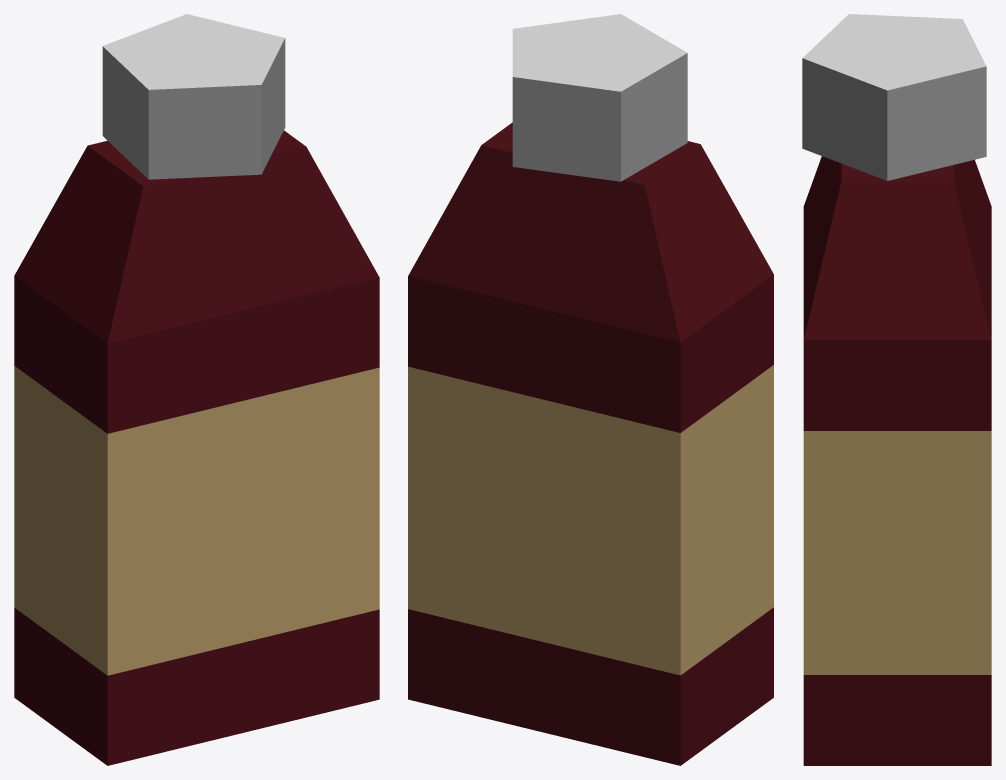
File: TB_Prop_Bottle_F.FBX
3 renders of one model, left to right at view 1: azimuth 30°, elevation 25°; view 2: azimuth 150°, elevation 25°; view 3: azimuth 270°, elevation 25°, orthographic.
Visible parts, largest first — view 1: TB_Prop_Bottle_F; view 2: TB_Prop_Bottle_F; view 3: TB_Prop_Bottle_F.
Part boxes in pixels (<box>): TB_Prop_Bottle_F: <box>14,14,379,765</box>; TB_Prop_Bottle_F: <box>408,14,773,765</box>; TB_Prop_Bottle_F: <box>802,14,991,765</box>.
Bounding box in the file's own units: 0.3144 × 0.7119 × 0.1879.
